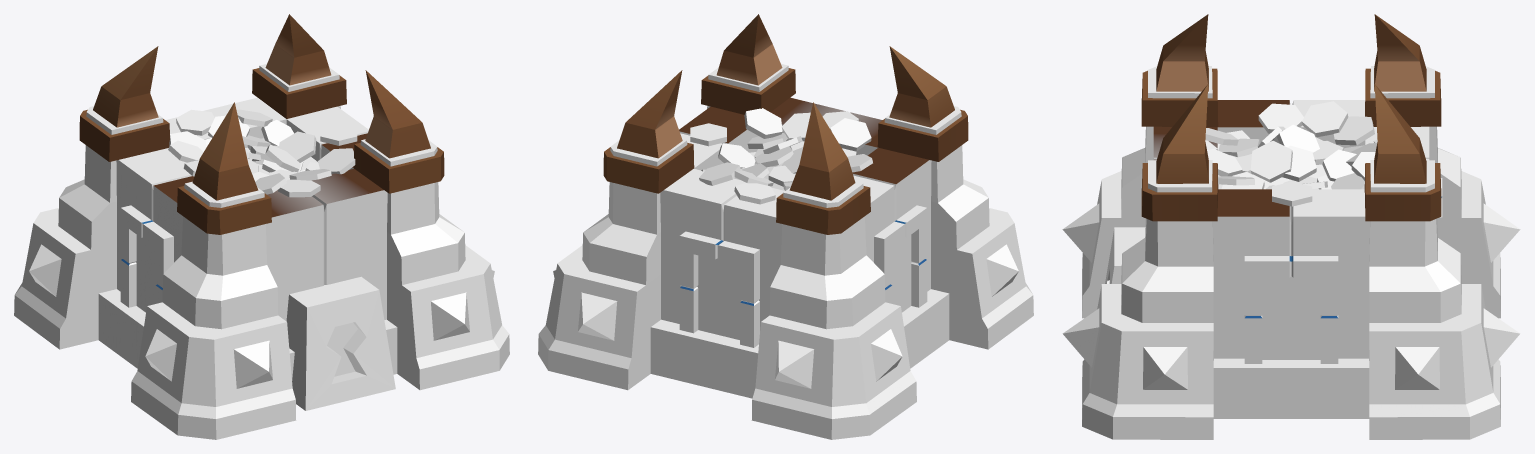
The model's file is Building_GoldMine_Lv7.fbx.
3 views of the same model, side by side, from view 1: azimuth 30°, elevation 25°; view 2: azimuth 150°, elevation 25°; view 3: azimuth 270°, elevation 25° (orthographic). The views are drawn at different scales.
Parts seen in each view (by area): view 1: Building_GoldMine_Lv7, gold_3; view 2: Building_GoldMine_Lv7, gold_3; view 3: Building_GoldMine_Lv7, gold_3, gold_2.
Boxes of the visible parts, x1,y1,x2,y2 form: Building_GoldMine_Lv7: (14, 14, 509, 439); gold_3: (168, 109, 357, 197); Building_GoldMine_Lv7: (538, 14, 1033, 439); gold_3: (690, 108, 872, 204); Building_GoldMine_Lv7: (1062, 14, 1520, 439); gold_3: (1205, 101, 1377, 206); gold_2: (1253, 164, 1334, 189).
Bounding box in the file's own units: 1.03 × 0.7812 × 1.07.
